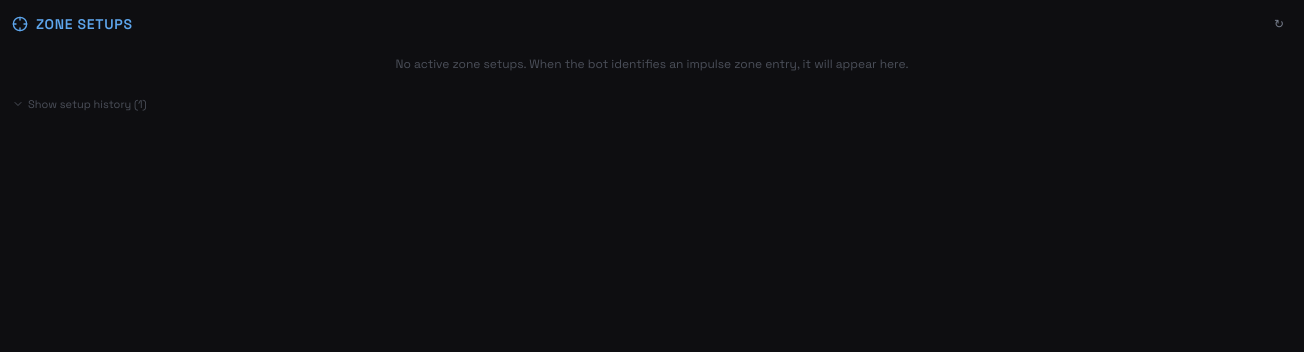
Test: unfilled orders say why › cancelled order shows the typed terminal reason and its reset detail
Click the button "Show setup history (1)" at (79, 104), box [12, 96, 147, 112]
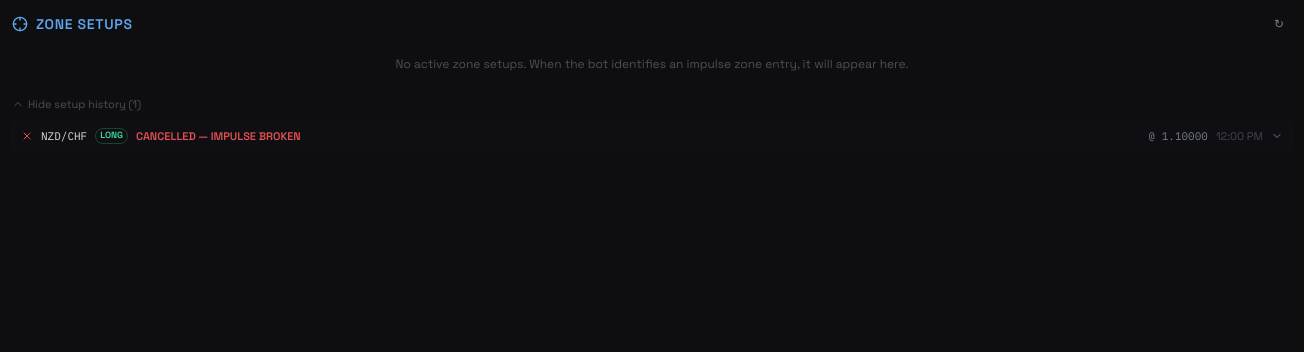
Result: the text "CANCELLED — IMPULSE BROKEN" is shown at [136, 128, 301, 144]
Click the button "NZD/CHF LONG CANCELLED — IMPULSE BROKEN @ 1.10000 12:00 PM" at (64, 136), box [13, 122, 1291, 150]
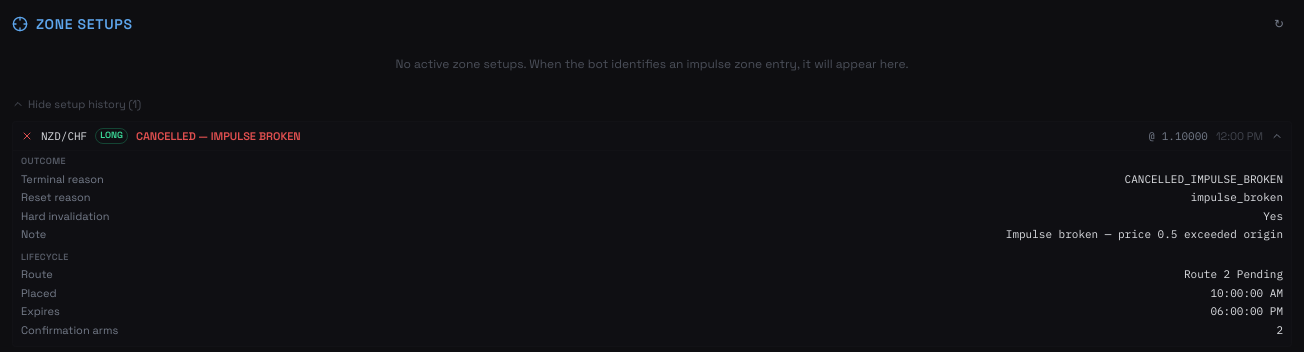
Result: the text "impulse_broken" is shown at [1191, 189, 1283, 206]
Result: the text "Yes" is shown at [1263, 208, 1283, 224]
Result: the text "Impulse broken — price 0.5 exceeded origin" is shown at [1006, 226, 1283, 242]
